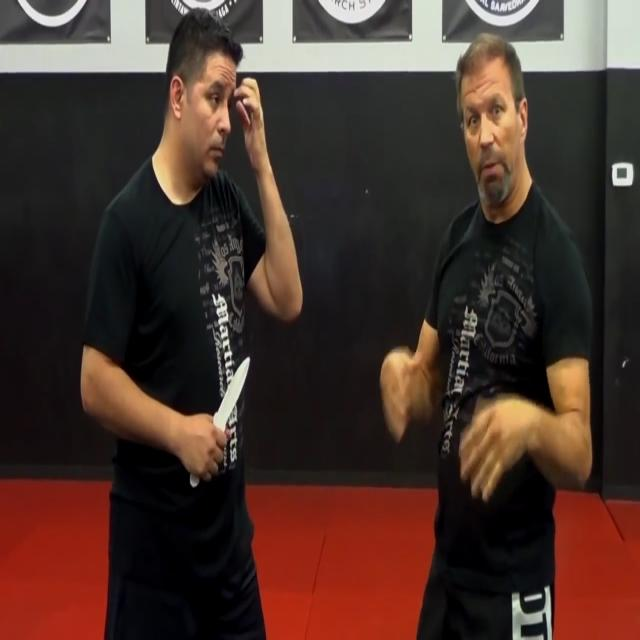knife: (191, 353, 253, 492)
